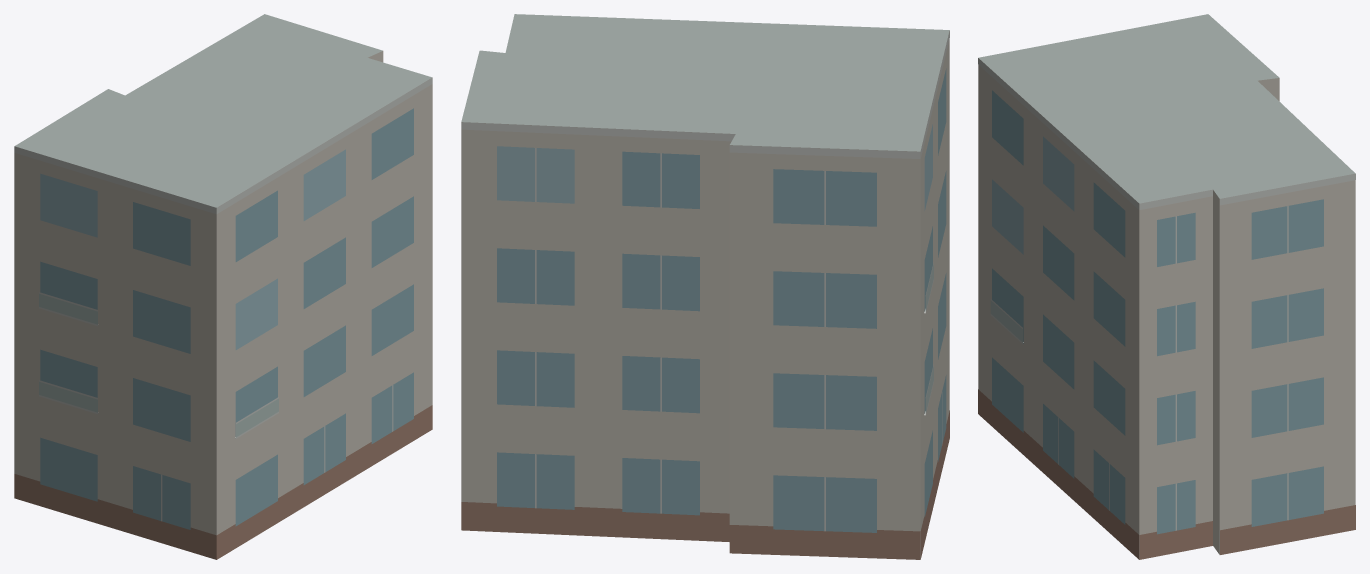
File: survey-upis-32773703.glb
3 views of the same model, side by side, from view 1: azimuth 30°, elevation 25°; view 2: azimuth 150°, elevation 25°; view 3: azimuth 270°, elevation 25° (orthographic). The views are drawn at different scales.
Parts seen in each view (by area): view 1: survey-upis-32773703.tmp; view 2: survey-upis-32773703.tmp; view 3: survey-upis-32773703.tmp.
Part boxes in pixels (left/top/right/bottom): survey-upis-32773703.tmp: left=14, top=14, right=432, bottom=559; survey-upis-32773703.tmp: left=461, top=14, right=949, bottom=559; survey-upis-32773703.tmp: left=978, top=14, right=1355, bottom=559.
Size of the model in its own units: 15.08 by 13.2 by 12.69.
